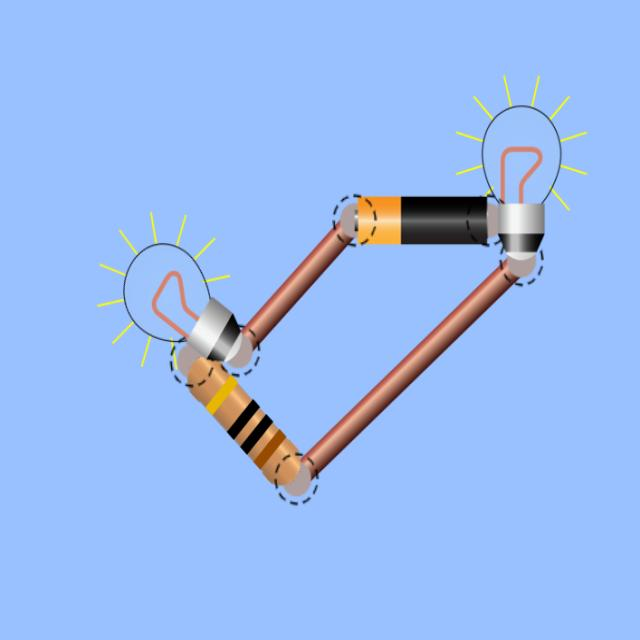Battery: (355, 196, 489, 245)
Light Bulb: (481, 105, 561, 276), (124, 244, 240, 360)
Resistor: (188, 358, 299, 486)
Wire: (301, 261, 518, 478), (241, 223, 352, 348)
